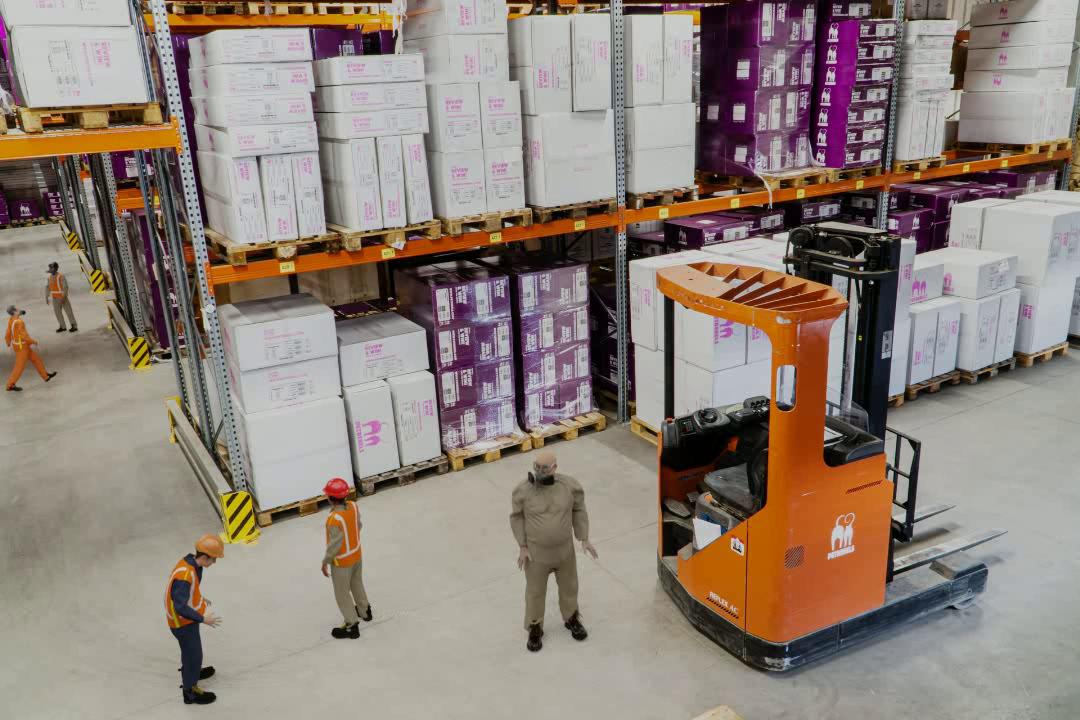Helmet: (194, 531, 230, 563), (322, 477, 352, 499)
Jacket: (168, 560, 204, 630), (323, 503, 359, 568), (1, 325, 19, 357), (47, 275, 64, 301)
Shoes: (564, 603, 600, 646), (181, 683, 220, 705), (178, 662, 219, 682), (524, 620, 546, 657), (332, 622, 360, 643), (349, 602, 377, 621), (6, 384, 24, 393), (45, 371, 59, 379), (55, 327, 67, 333), (68, 327, 79, 333)
